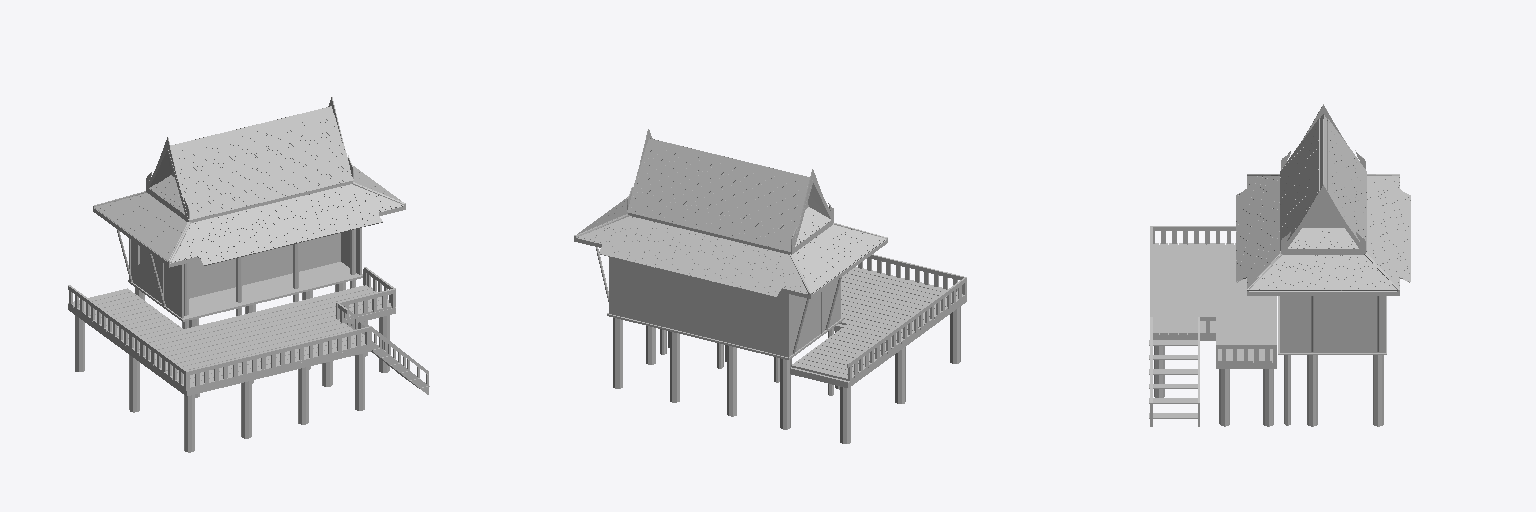
The model's file is Thai_House.obj.
The picture shows the model from 3 angles: view 1: azimuth 30°, elevation 25°; view 2: azimuth 150°, elevation 25°; view 3: azimuth 270°, elevation 25°; orthographic projection.
Visible parts, largest first — view 1: House_pCube120, House_pCube112, House_pCube1, House_pCube128, House_pCube122, House_pCube14, House_pCube13, House_pCube121, House_pCube27, House_pCube9, House_pCube10, House_pCube12 (+14 smaller); view 2: House_pCube116, House_pCube128, House_pCube122, House_pCube1, House_pCube121, House_pCylinder16, House_pCylinder13, House_pCylinder14, House_pCylinder15, House_pCube112, House_pCylinder17, House_pCube48 (+3 smaller); view 3: House_pCube118, House_pCube1, House_pCube122, House_pCube121, House_pCube9, House_pCube10, House_pCube126, House_pCube6, House_pCube4, House_pCylinder12, House_pCylinder13, House_pCube7 (+8 smaller).
Boxes of the visible parts, <box> form: House_pCube120: <box>162,233,340,304</box>; House_pCube112: <box>128,262,362,321</box>; House_pCube1: <box>68,285,395,396</box>; House_pCube128: <box>131,240,183,318</box>; House_pCube122: <box>146,106,332,219</box>; House_pCube14: <box>126,285,371,348</box>; House_pCube13: <box>130,288,376,352</box>; House_pCube121: <box>93,182,405,267</box>; House_pCube27: <box>185,326,371,375</box>; House_pCube9: <box>149,303,394,365</box>; House_pCube10: <box>144,299,388,362</box>; House_pCube12: <box>135,292,377,355</box>; House_pCube116: <box>611,257,789,357</box>; House_pCube128: <box>790,279,840,355</box>; House_pCube122: <box>647,138,833,251</box>; House_pCube1: <box>790,296,966,387</box>; House_pCube121: <box>574,214,887,298</box>; House_pCylinder16: <box>780,358,790,429</box>; House_pCylinder13: <box>613,318,622,388</box>; House_pCylinder14: <box>670,332,679,402</box>; House_pCylinder15: <box>727,345,736,416</box>; House_pCube112: <box>607,313,843,359</box>; House_pCylinder17: <box>840,387,850,443</box>; House_pCube48: <box>847,278,965,367</box>; House_pCube118: <box>1280,296,1385,352</box>; House_pCube1: <box>1153,245,1276,368</box>; House_pCube122: <box>1283,114,1363,251</box>; House_pCube121: <box>1247,174,1399,295</box>; House_pCube9: <box>1216,243,1224,362</box>; House_pCube10: <box>1226,243,1233,362</box>; House_pCube126: <box>1281,184,1365,251</box>; House_pCube6: <box>1188,243,1196,334</box>; House_pCube4: <box>1169,243,1177,334</box>; House_pCylinder12: <box>1307,355,1317,426</box>; House_pCylinder13: <box>1373,355,1383,426</box>; House_pCube7: <box>1197,243,1205,334</box>.
Bounding box in the file's own units: 14.18 × 12.02 × 11.93.